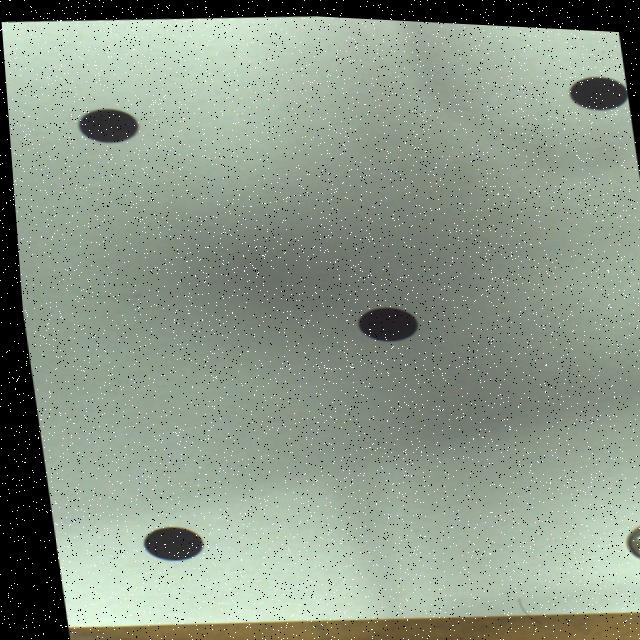space: (135, 525, 193, 559), (354, 303, 412, 337), (567, 70, 626, 103), (76, 108, 135, 141)
tail1bath: (619, 517, 640, 555)
